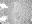person: (1, 3, 7, 10), (1, 19, 6, 23), (14, 19, 18, 23)
